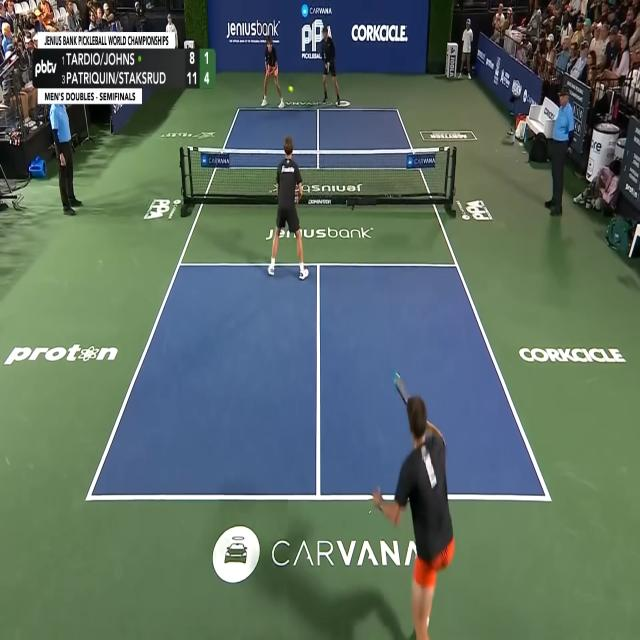ball: (288, 85, 294, 94)
